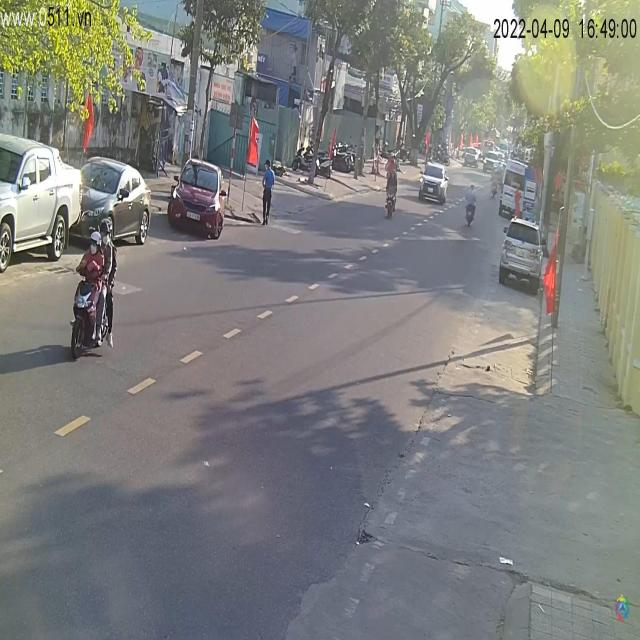car: (1, 132, 84, 277), (79, 159, 156, 248), (168, 160, 228, 241), (499, 216, 544, 296), (500, 157, 538, 220), (418, 163, 449, 205), (463, 150, 480, 168)
motorcycle: (68, 264, 118, 357), (384, 177, 400, 219), (463, 202, 478, 226)
